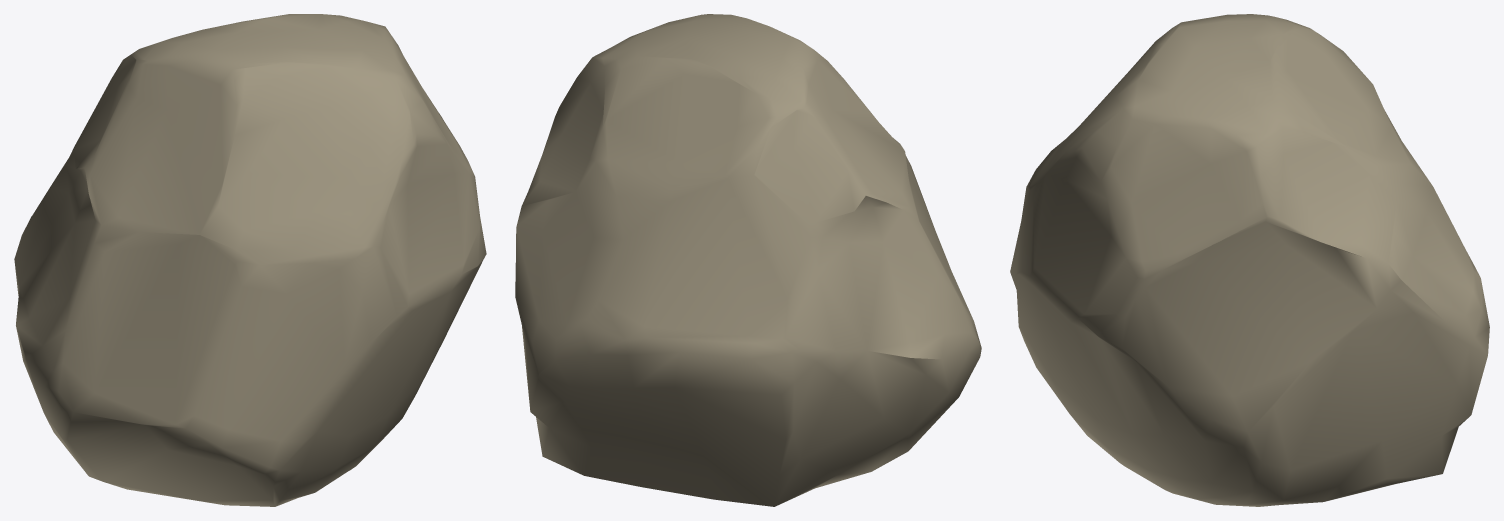
The model's file is Environment_Rock_4.glb.
The picture shows the model from 3 angles, left to right: view 1: azimuth 30°, elevation 25°; view 2: azimuth 150°, elevation 25°; view 3: azimuth 270°, elevation 25°; orthographic projection. The views are drawn at different scales.
Parts seen in each view (by area): view 1: Environment_Rock_4; view 2: Environment_Rock_4; view 3: Environment_Rock_4.
Boxes of the visible parts, x1=… form: Environment_Rock_4: x1=14, y1=14, x2=486, y2=506; Environment_Rock_4: x1=515, y1=14, x2=981, y2=506; Environment_Rock_4: x1=1010, y1=14, x2=1489, y2=506.
Bounding box in the file's own units: 0.7628 × 0.7114 × 0.746.
1 material, 1 textured.
